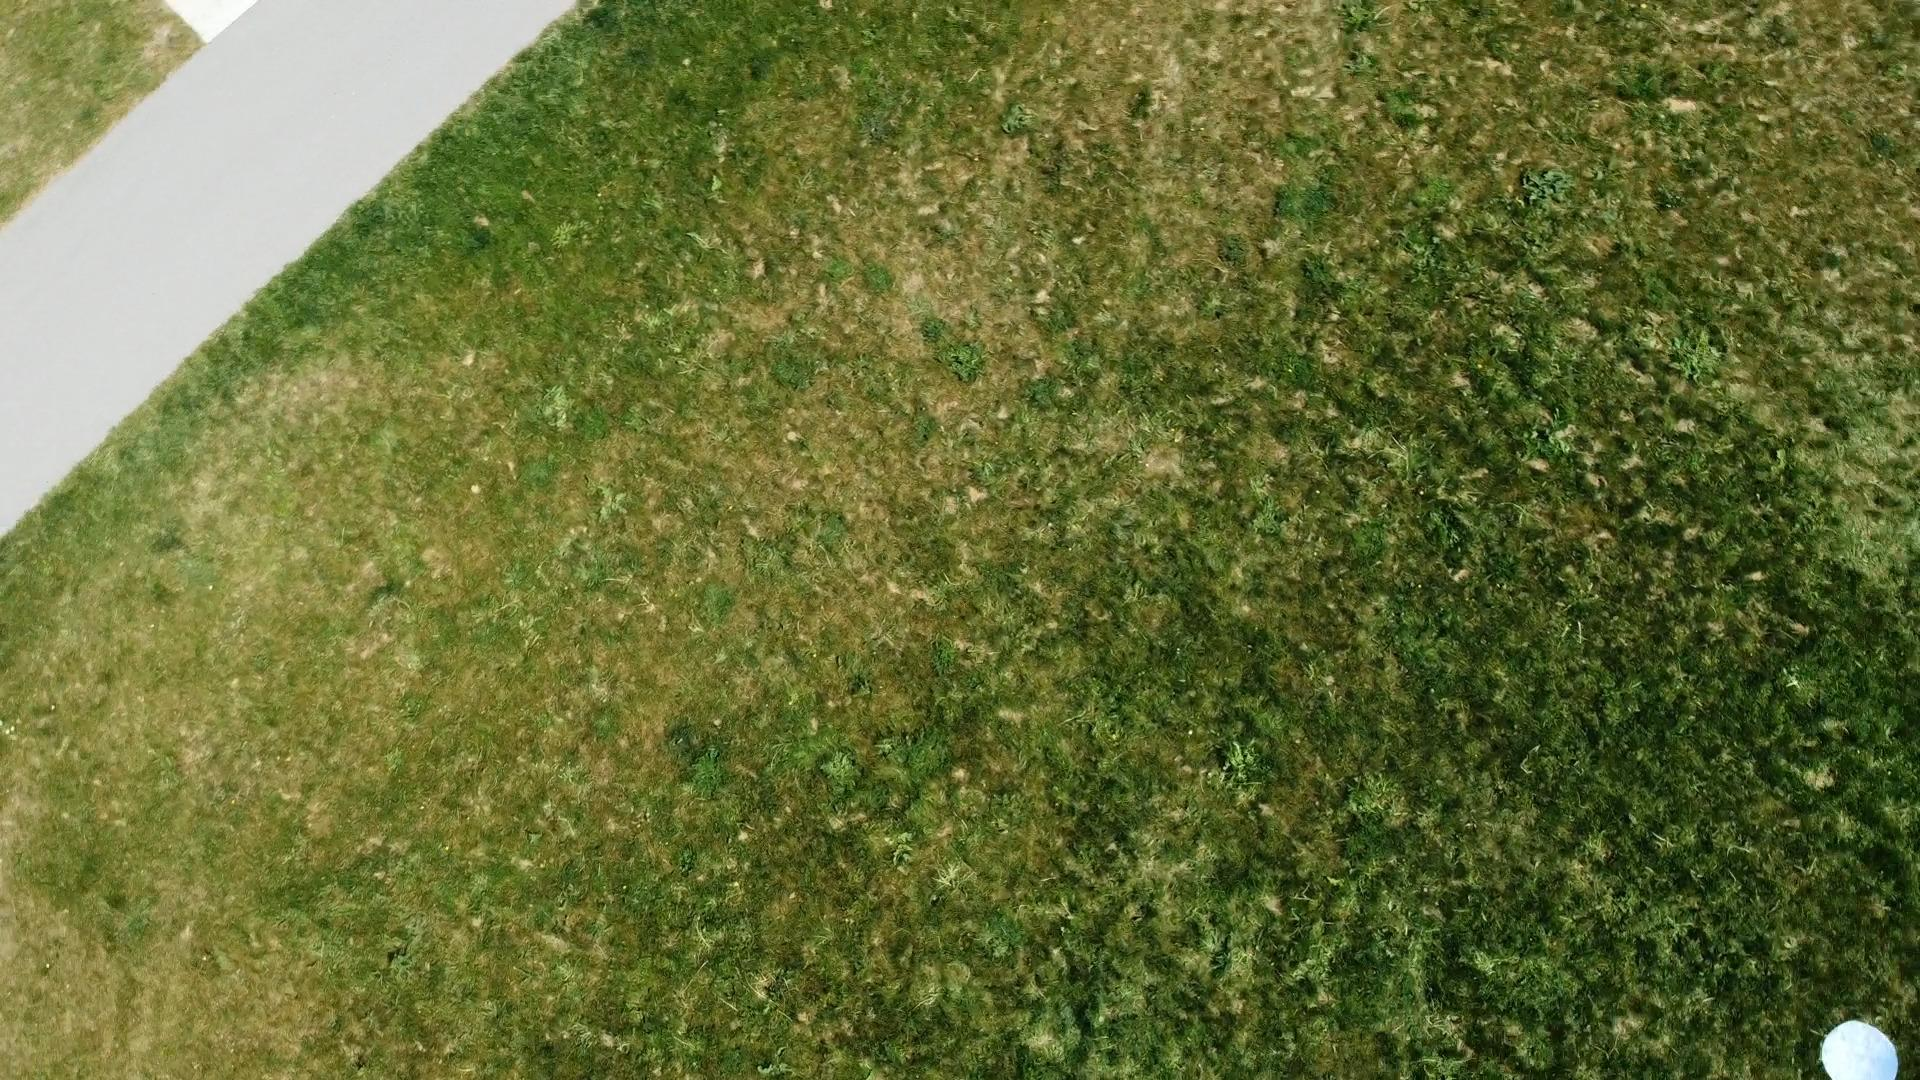Blue: (1817, 1018, 1902, 1080)
